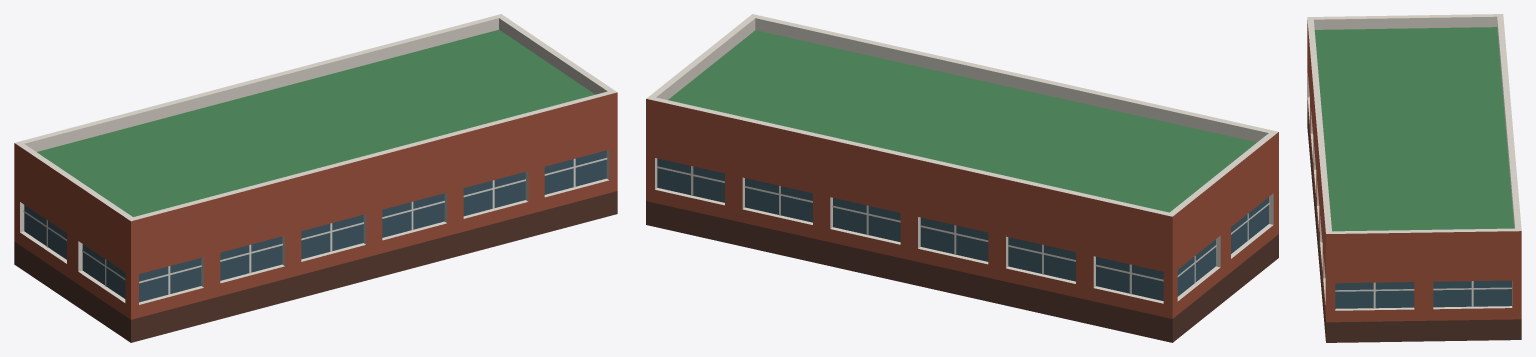
3 views of the same model, side by side, from view 1: azimuth 30°, elevation 25°; view 2: azimuth 150°, elevation 25°; view 3: azimuth 270°, elevation 25° (orthographic). The views are drawn at different scales.
Parts seen in each view (by area): view 1: shed6__wall-plaster, shed6__roof, shed6__trim-concrete, shed6__base-stone, shed6__glass, shed6__frame; view 2: shed6__wall-plaster, shed6__roof, shed6__trim-concrete, shed6__base-stone, shed6__glass, shed6__frame; view 3: shed6__roof, shed6__wall-plaster, shed6__trim-concrete, shed6__base-stone, shed6__glass, shed6__frame.
Part boxes in pixels (bbox=[...]): shed6__wall-plaster: bbox=[14, 92, 617, 319]; shed6__roof: bbox=[37, 29, 594, 216]; shed6__trim-concrete: bbox=[15, 14, 617, 304]; shed6__base-stone: bbox=[14, 191, 617, 342]; shed6__glass: bbox=[24, 150, 606, 302]; shed6__frame: bbox=[23, 158, 607, 294]; shed6__wall-plaster: bbox=[646, 99, 1278, 318]; shed6__roof: bbox=[668, 30, 1256, 212]; shed6__trim-concrete: bbox=[646, 14, 1278, 303]; shed6__base-stone: bbox=[646, 201, 1278, 342]; shed6__glass: bbox=[657, 158, 1268, 300]; shed6__frame: bbox=[657, 166, 1269, 294]; shed6__roof: bbox=[1314, 27, 1514, 231]; shed6__wall-plaster: bbox=[1307, 20, 1521, 322]; shed6__trim-concrete: bbox=[1307, 14, 1521, 310]; shed6__base-stone: bbox=[1307, 108, 1521, 342]; shed6__glass: bbox=[1335, 280, 1511, 308]; shed6__frame: bbox=[1335, 281, 1511, 308].
Size of the model in its own units: 20.6 by 4.75 by 8.48.
